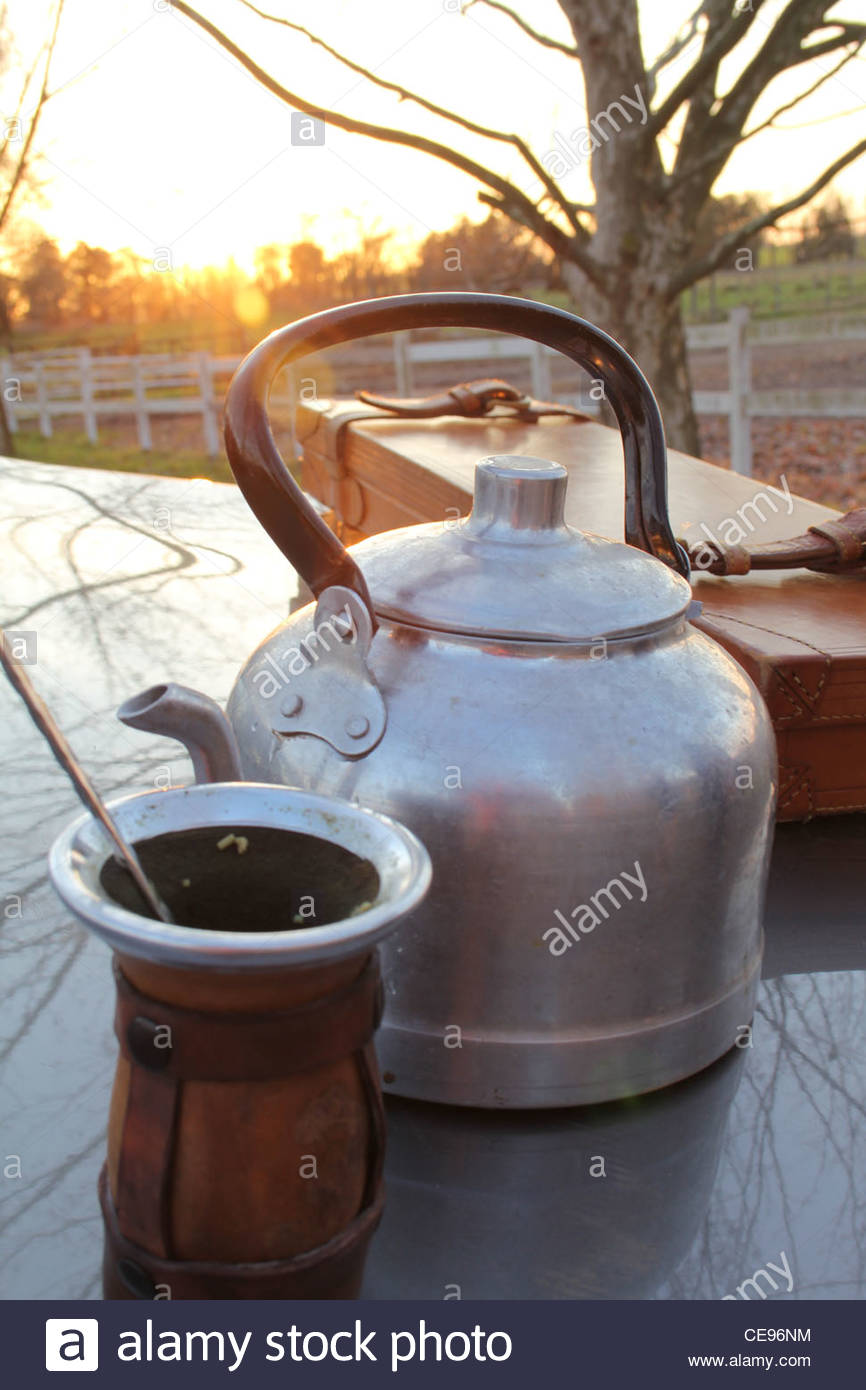guampa: (1, 628, 415, 1309)
